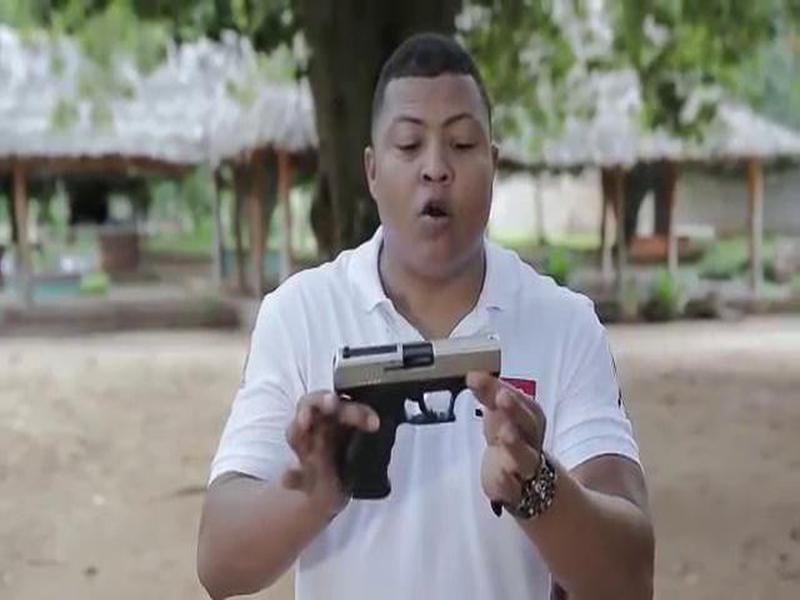Pistola: (331, 327, 534, 503)
